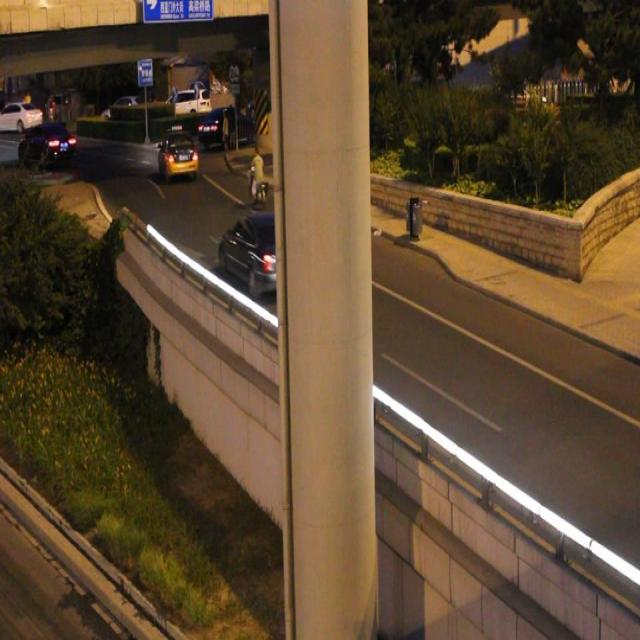car: (216, 210, 306, 298)
